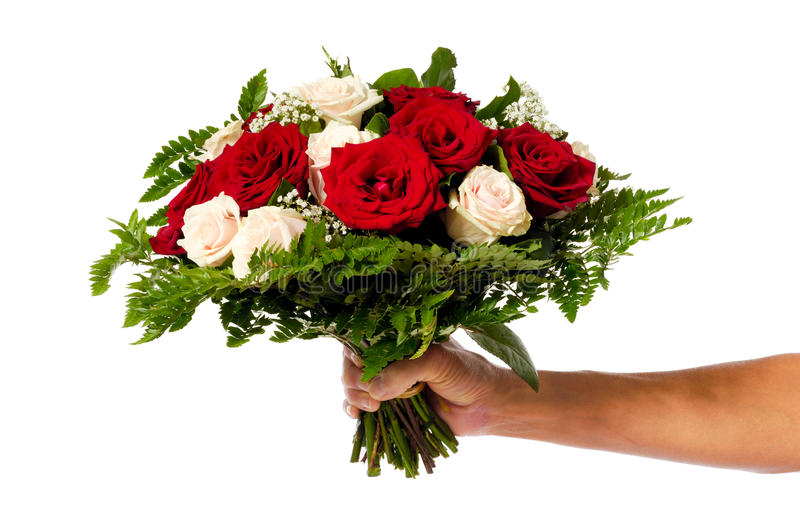RedRose: (323, 130, 445, 232), (498, 114, 607, 217), (379, 82, 497, 169), (216, 120, 305, 208)
